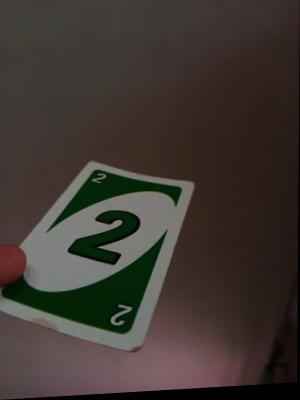green: (69, 185, 140, 323)
num_2: (101, 297, 133, 334), (88, 170, 110, 188)
